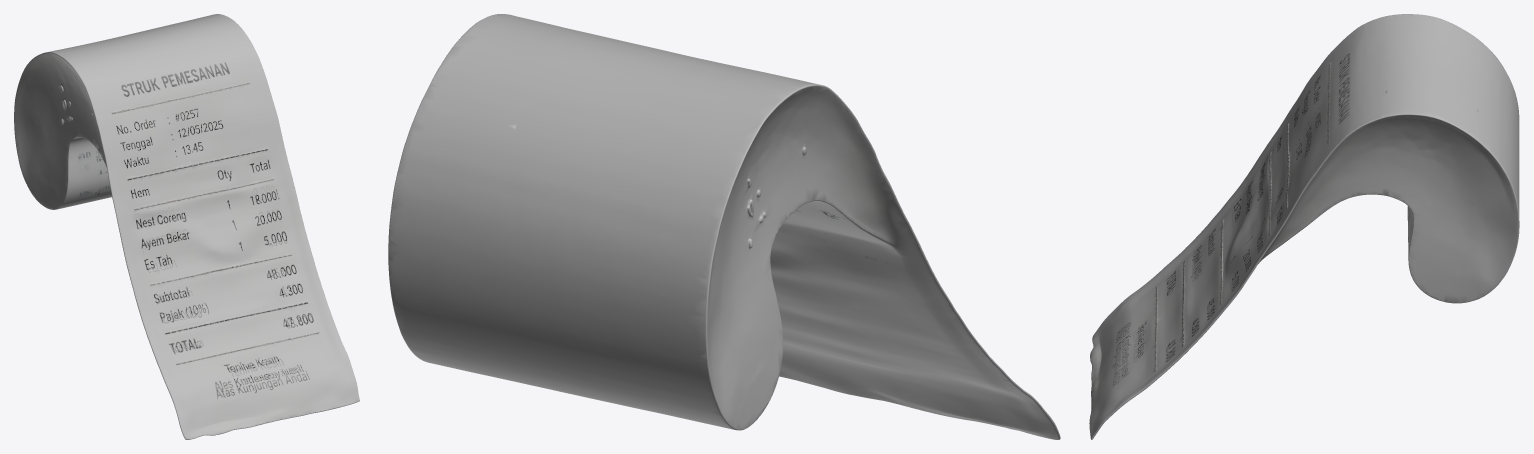
Rendered from tripo_convert_4beb29f8-26ee-4b8f-9873-a2357855ee60.fbx.
The picture shows the model from 3 angles, left to right: view 1: azimuth 30°, elevation 25°; view 2: azimuth 150°, elevation 25°; view 3: azimuth 270°, elevation 25°; orthographic projection. The views are drawn at different scales.
Parts seen in each view (by area): view 1: tripo_node_4beb29f8; view 2: tripo_node_4beb29f8; view 3: tripo_node_4beb29f8.
Part boxes in pixels (x1,y1,x2,y2): tripo_node_4beb29f8: (14, 14, 359, 439); tripo_node_4beb29f8: (388, 14, 1060, 439); tripo_node_4beb29f8: (1089, 14, 1519, 439).
Bounding box in the file's own units: 57.87 × 100 × 85.89.
1 material, 1 textured.
